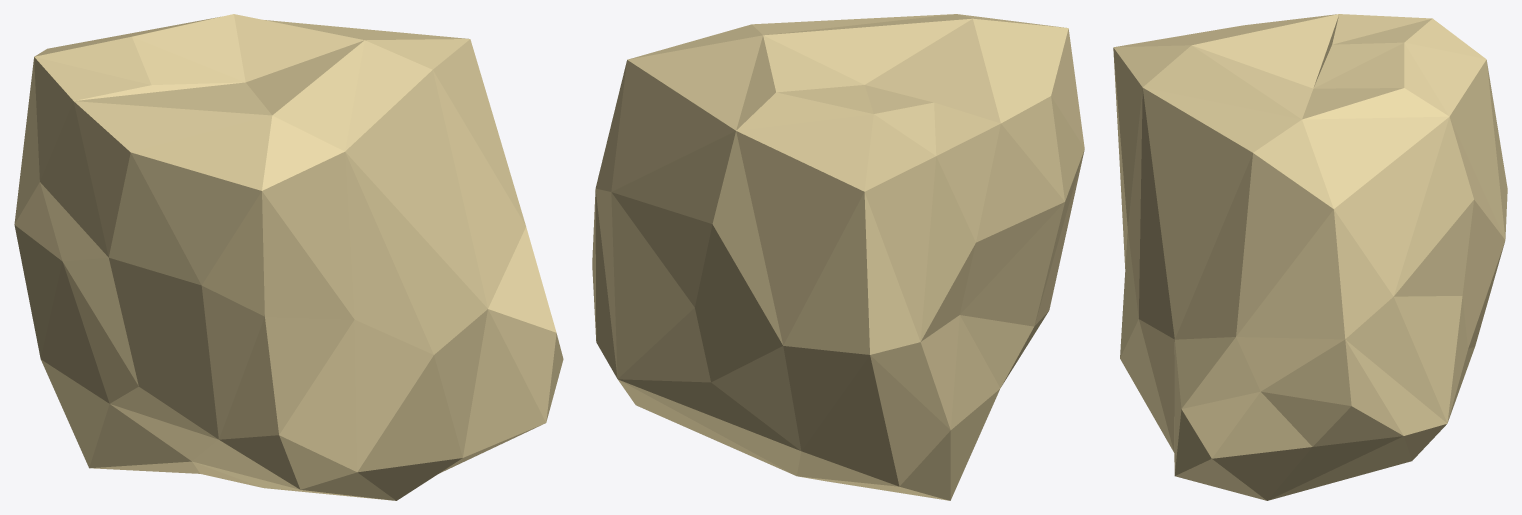
The model's file is Rock (43).fbx.
3 views of the same model, side by side, from view 1: azimuth 30°, elevation 25°; view 2: azimuth 150°, elevation 25°; view 3: azimuth 270°, elevation 25° (orthographic). The views are drawn at different scales.
Parts seen in each view (by area): view 1: Asteroid42; view 2: Asteroid42; view 3: Asteroid42.
Part boxes in pixels (x1,y1,x2,y2): Asteroid42: (14, 14, 563, 500); Asteroid42: (592, 14, 1084, 500); Asteroid42: (1113, 14, 1507, 500).
Bounding box in the file's own units: 176 × 167 × 158.
